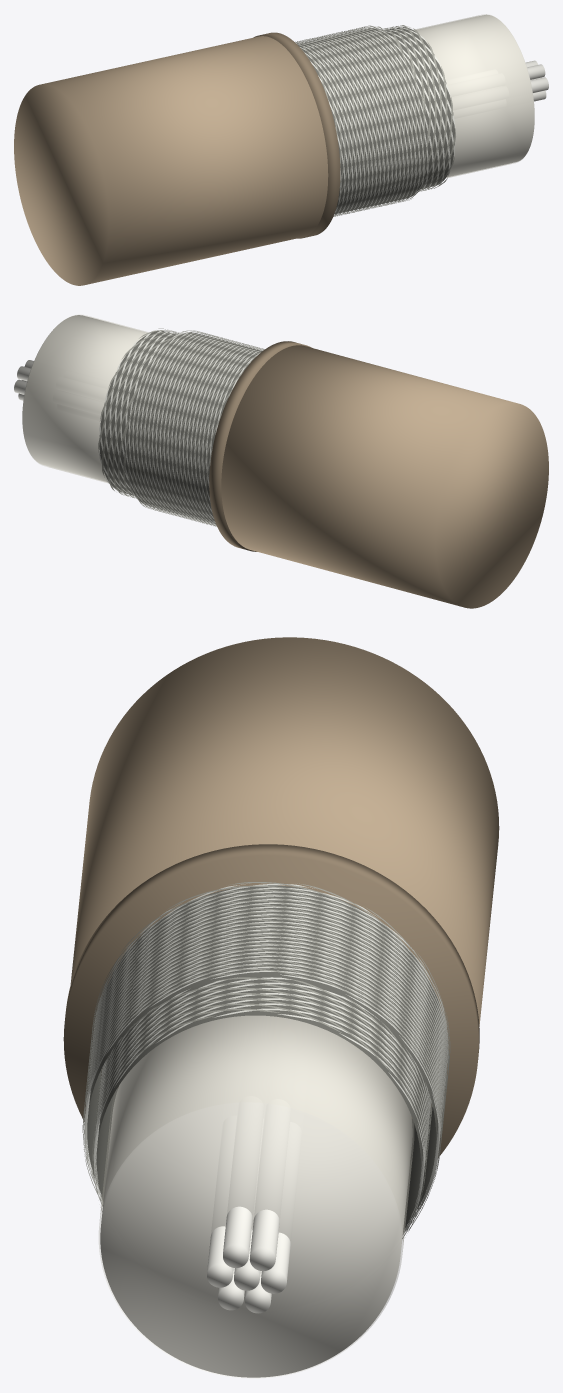
The picture shows the model from 3 angles, top to bottom: view 1: azimuth 30°, elevation 25°; view 2: azimuth 150°, elevation 25°; view 3: azimuth 270°, elevation 25°; orthographic projection. The views are drawn at different scales.
Parts seen in each view (by area): view 1: matte black pvc jacket body, smooth dielectric skin, gas injected foam dielectric, braid dark diamond recess, jacket cut lip, inner braid dark diamond recess, braid left hand woven carrier 16, braid left hand woven carrier 01, braid left hand woven carrier 15, braid left hand woven carrier 02, braid left hand woven carrier 14, braid left hand woven carrier 03 (+19 smaller); view 2: matte black pvc jacket body, smooth dielectric skin, gas injected foam dielectric, braid dark diamond recess, jacket cut lip, inner braid dark diamond recess, braid left hand woven carrier 10, braid left hand woven carrier 11, braid left hand woven carrier 12, braid left hand woven carrier 09, braid left hand woven carrier 13, braid left hand woven carrier 08 (+17 smaller); view 3: gas injected foam dielectric, matte black pvc jacket body, smooth dielectric skin, jacket cut lip, braid dark diamond recess, inner braid dark diamond recess, 7 strand center conductor 03, 7 strand center conductor 04, braid left hand woven carrier 12, braid left hand woven carrier 11, braid left hand woven carrier 13, braid right hand woven carrier 14 (+28 smaller).
Boxes of the visible parts, <box> form: matte black pvc jacket body: <box>14,36,328,285</box>; smooth dielectric skin: <box>413,14,533,178</box>; gas injected foam dielectric: <box>414,14,534,177</box>; braid dark diamond recess: <box>297,27,428,214</box>; jacket cut lip: <box>253,32,340,238</box>; inner braid dark diamond recess: <box>385,27,454,188</box>; braid left hand woven carrier 16: <box>304,26,412,207</box>; braid left hand woven carrier 01: <box>306,36,416,208</box>; braid left hand woven carrier 15: <box>300,25,408,208</box>; braid left hand woven carrier 02: <box>312,37,420,213</box>; braid left hand woven carrier 14: <box>296,26,404,209</box>; braid left hand woven carrier 03: <box>314,36,424,215</box>; matte black pvc jacket body: <box>221,345,548,608</box>; smooth dielectric skin: <box>23,314,148,483</box>; gas injected foam dielectric: <box>22,315,146,481</box>; braid dark diamond recess: <box>125,332,262,523</box>; jacket cut lip: <box>209,341,311,551</box>; inner braid dark diamond recess: <box>99,331,175,495</box>; braid left hand woven carrier 10: <box>132,337,243,525</box>; braid left hand woven carrier 11: <box>128,336,251,524</box>; braid left hand woven carrier 12: <box>124,335,257,523</box>; braid left hand woven carrier 09: <box>136,339,237,525</box>; braid left hand woven carrier 13: <box>124,334,260,522</box>; braid left hand woven carrier 08: <box>140,340,236,526</box>; gas injected foam dielectric: <box>100,1015,412,1377</box>; matte black pvc jacket body: <box>70,637,499,1026</box>; smooth dielectric skin: <box>99,1016,413,1378</box>; jacket cut lip: <box>63,844,479,1157</box>; braid dark diamond recess: <box>87,885,442,1223</box>; inner braid dark diamond recess: <box>96,976,428,1231</box>; 7 strand center conductor 03: <box>249,1209,279,1271</box>; 7 strand center conductor 04: <box>223,1206,252,1267</box>; braid left hand woven carrier 12: <box>86,893,447,1181</box>; braid left hand woven carrier 11: <box>86,889,447,1231</box>; braid left hand woven carrier 13: <box>85,897,446,1120</box>; braid right hand woven carrier 14: <box>84,895,447,1175</box>.
Bounding box in the file's own units: 6.56 × 2.5 × 2.62.
